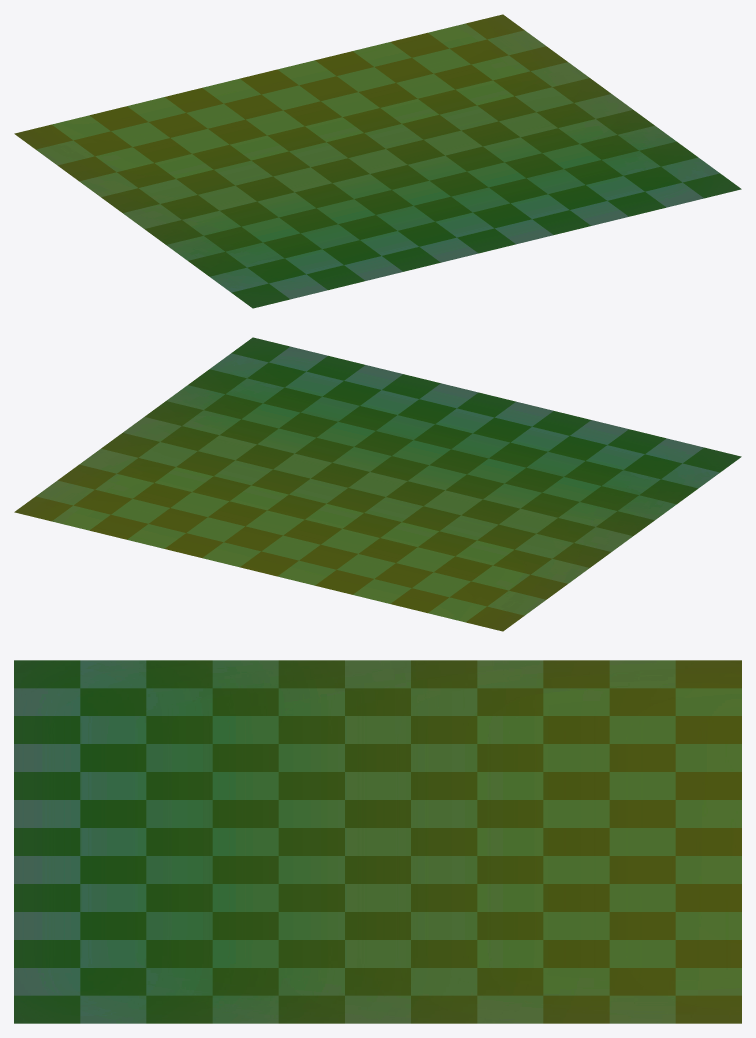
The model's file is plane_map.FBX.
The picture shows the model from 3 angles, top to bottom: view 1: azimuth 30°, elevation 25°; view 2: azimuth 150°, elevation 25°; view 3: azimuth 270°, elevation 25°; orthographic projection. The views are drawn at different scales.
Parts seen in each view (by area): view 1: plane_map; view 2: plane_map; view 3: plane_map.
Boxes of the visible parts, left/top/right/bottom form: plane_map: left=14, top=14, right=741, bottom=308; plane_map: left=14, top=337, right=741, bottom=631; plane_map: left=14, top=660, right=741, bottom=1023.
Bounding box in the file's own units: 1300 × 6.74e-14 × 1100.
2 materials, 2 textured.
